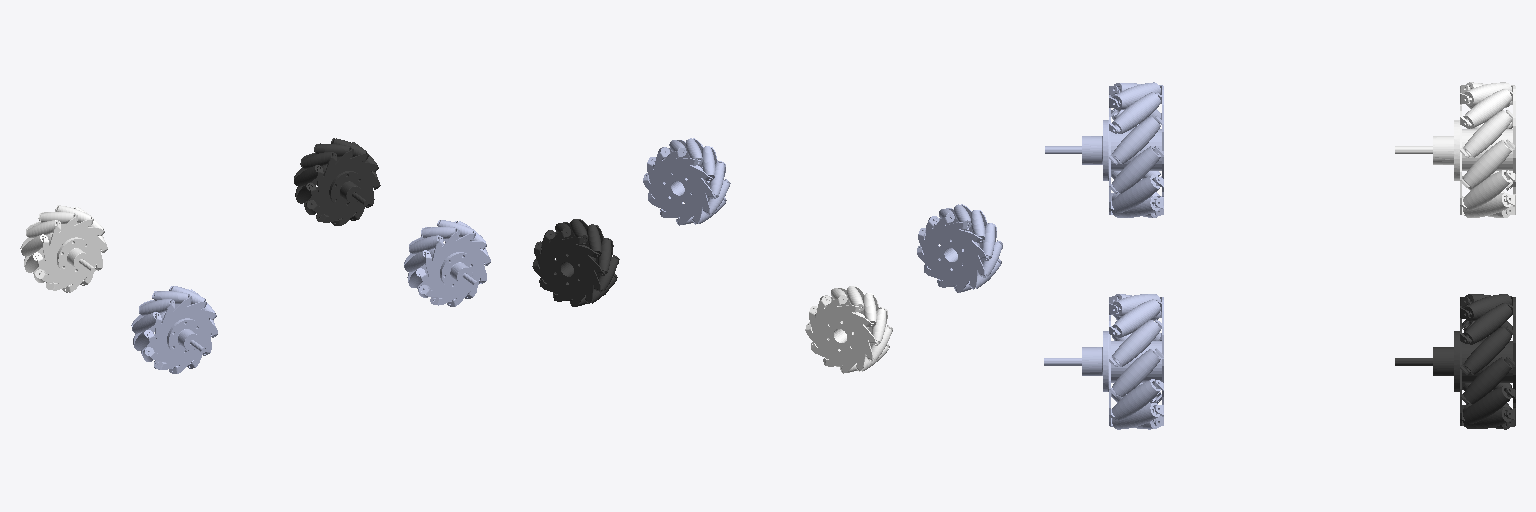
URDF robot description (navstack_pub):
<?xml version="1.0" encoding="utf-8"?>
<!-- This URDF was automatically created by SolidWorks to URDF Exporter! Originally created by [author] ([email redacted]) 
     Commit Version: 1.6.0-4-g7f85cfe  Build Version: 1.6.7995.38578
     For more information, please see http://wiki.ros.org/sw_urdf_exporter -->
<robot
  name="navstack_pub">
  <link name="base_footprint"/>
  <joint name="base_link_joint" type="fixed">
    <origin rpy="0 0 0" xyz="0 0 0.12"/>
    <parent link="base_footprint"/>
    <child link="base_link"/>
  </joint>
  
  
  
  <link
    name="base_link">
    <inertial>
      <origin
        xyz="0.0209148482469032 0.00353141324278033 -0.0152111359569568"
        rpy="0 0 0" />
      <mass
        value="4.18823858430197" />
      <inertia
        ixx="0.0163959812788391"
        ixy="2.18210912296025E-08"
        ixz="-6.53592108618589E-07"
        iyy="0.0454692904330769"
        iyz="-1.31603476826795E-07"
        izz="0.0580306179732299" />
    </inertial>
    <visual>
      <origin
        xyz="0 0 0"
        rpy="0 0 0" />
      <geometry>
        <mesh
          filename="package://navstack_pub/meshes/base_link.STL" />
      </geometry>
      <material
        name="">
        <color
          rgba="0.698039215686274 0.698039215686274 0.698039215686274 1" />
      </material>
    </visual>
    <collision>
      <origin
        xyz="0 0 0"
        rpy="0 0 0" />
      <geometry>
        <mesh
          filename="package://navstack_pub/meshes/base_link.STL" />
      </geometry>
    </collision>
  </link>
  <link
    name="bl_wheel_link">
    <inertial>
      <origin
        xyz="1.02695629777827E-15 -0.0302856529808955 -1.3235940121703E-15"
        rpy="0 0 0" />
      <mass
        value="0.270243648121361" />
      <inertia
        ixx="8.01495437608353E-05"
        ixy="-2.87447743312358E-19"
        ixz="-2.59118436935907E-19"
        iyy="0.000108364789370441"
        iyz="-4.61089444048629E-19"
        izz="8.01495437608351E-05" />
    </inertial>
    <visual>
      <origin
        xyz="0 0 0"
        rpy="0 0 0" />
      <geometry>
        <mesh
          filename="package://navstack_pub/meshes/bl_wheel_link.STL" />
      </geometry>
      <material
        name="">
        <color
          rgba="1 1 1 1" />
      </material>
    </visual>
    <collision>
      <origin
        xyz="0 0 0"
        rpy="0 0 0" />
      <geometry>
        <mesh
          filename="package://navstack_pub/meshes/bl_wheel_link.STL" />
      </geometry>
    </collision>
  </link>
  <joint
    name="bl_joint"
    type="continuous">
    <origin
      xyz="-0.20031 0.16715 -0.061704"
      rpy="0 0 0" />
    <parent
      link="base_link" />
    <child
      link="bl_wheel_link" />
    <axis
      xyz="0 1 0" />
    <limit
      effort="10"
      velocity="10" />
    <dynamics
      damping="0.1"
      friction="0.1" />
  </joint>
  <link
    name="fl_Link">
    <inertial>
      <origin
        xyz="6.31716901011714E-14 -0.0302843531608482 -6.54172896408234E-14"
        rpy="0 0 0" />
      <mass
        value="0.270243648121361" />
      <inertia
        ixx="8.01495437608282E-05"
        ixy="4.67072560291564E-18"
        ixz="-1.27262734535066E-18"
        iyy="0.000108364789370431"
        iyz="4.35014061301399E-18"
        izz="8.01495437608269E-05" />
    </inertial>
    <visual>
      <origin
        xyz="0 0 0"
        rpy="0 0 0" />
      <geometry>
        <mesh
          filename="package://navstack_pub/meshes/fl_Link.STL" />
      </geometry>
      <material
        name="">
        <color
          rgba="0.298039215686275 0.298039215686275 0.298039215686275 1" />
      </material>
    </visual>
    <collision>
      <origin
        xyz="0 0 0"
        rpy="0 0 0" />
      <geometry>
        <mesh
          filename="package://navstack_pub/meshes/fl_Link.STL" />
      </geometry>
    </collision>
  </link>
  <joint
    name="fl_wheel_joint"
    type="continuous">
    <origin
      xyz="0.2759 0.16715 -0.061704"
      rpy="0 0 0" />
    <parent
      link="base_link" />
    <child
      link="fl_Link" />
    <axis
      xyz="0 1 0" />
    <limit
      effort="10"
      velocity="10" />
    <dynamics
      damping="0.1"
      friction="0.1" />
  </joint>
  <link
    name="fr_link">
    <inertial>
      <origin
        xyz="-9.43689570931383E-16 -0.0329287351623224 -1.66967134562768E-15"
        rpy="0 0 0" />
      <mass
        value="0.295407208718009" />
      <inertia
        ixx="8.51383526485942E-05"
        ixy="1.51396614954498E-19"
        ixz="8.41226575085333E-20"
        iyy="0.000115483256500183"
        iyz="3.65970224311431E-19"
        izz="8.51383526485939E-05" />
    </inertial>
    <visual>
      <origin
        xyz="0 0 0"
        rpy="0 0 0" />
      <geometry>
        <mesh
          filename="package://navstack_pub/meshes/fr_link.STL" />
      </geometry>
      <material
        name="">
        <color
          rgba="0.792156862745098 0.819607843137255 0.933333333333333 1" />
      </material>
    </visual>
    <collision>
      <origin
        xyz="0 0 0"
        rpy="0 0 0" />
      <geometry>
        <mesh
          filename="package://navstack_pub/meshes/fr_link.STL" />
      </geometry>
    </collision>
  </link>
  <joint
    name="fr_wheel_joint"
    type="continuous">
    <origin
      xyz="0.2759 -0.16715 -0.061704"
      rpy="0 0 -3.1416" />
    <parent
      link="base_link" />
    <child
      link="fr_link" />
    <axis
      xyz="0 -1 0" />
    <limit
      effort="10"
      velocity="10" />
    <dynamics
      damping="0.1"
      friction="0.1" />
  </joint>
  <link
    name="br_link">
    <inertial>
      <origin
        xyz="-4.9960036108132E-16 -0.0302761236696991 -9.98333360424652E-16"
        rpy="0 0 0" />
      <mass
        value="0.270243648121361" />
      <inertia
        ixx="8.01495437608317E-05"
        ixy="1.8673608367527E-18"
        ixz="-2.18251885518867E-18"
        iyy="0.000108364789370434"
        iyz="-1.14231160922193E-18"
        izz="8.01495437608275E-05" />
    </inertial>
    <visual>
      <origin
        xyz="0 0 0"
        rpy="0 0 0" />
      <geometry>
        <mesh
          filename="package://navstack_pub/meshes/br_link.STL" />
      </geometry>
      <material
        name="">
        <color
          rgba="0.792156862745098 0.819607843137255 0.933333333333333 1" />
      </material>
    </visual>
    <collision>
      <origin
        xyz="0 0 0"
        rpy="0 0 0" />
      <geometry>
        <mesh
          filename="package://navstack_pub/meshes/br_link.STL" />
      </geometry>
    </collision>
  </link>
  <joint
    name="br_joint_wheel"
    type="continuous">
    <origin
      xyz="-0.20031 -0.16715 -0.061704"
      rpy="0 0 -3.1416" />
    <parent
      link="base_link" />
    <child
      link="br_link" />
    <axis
      xyz="0 -1 0" />
    <limit
      effort="10"
      velocity="10" />
    <dynamics
      damping="0.1"
      friction="0.1" />
  </joint>
  
  <link name="laser">
    <collision>
      <origin xyz="0 0 0" rpy="0 0 0"/>
      <geometry>
        <box size="0.1 0.1 0.1"/>
      </geometry>
    </collision>

    <visual>
      <origin xyz="0 0 0" rpy="0 0 3.14"/>
      <geometry>
        <mesh filename="package://navstack_pub/meshes/lds.stl" scale="0.001 0.001 0.001"/>
      </geometry>
    </visual>

     <inertial>
      <mass value="0.114" />
      <origin xyz="0 0 0" />
      <inertia ixx="0.001" ixy="0.0" ixz="0.0"
               iyy="0.001" iyz="0.0"
               izz="0.001" />
    </inertial>
  </link>
  
  <joint name="scan_joint" type="fixed">
    <axis xyz="0 0 0" />
    <origin xyz="0.290 0 0.1" rpy="0 0 0"/>
    <parent link="base_link"/>
    <child link="laser"/>
  </joint>
  
</robot>

--- What the picture shows (computed from the rendered views, not written in the file) ---
3 views of the same robot in one strip: view 1: azimuth 30°, elevation 25°; view 2: azimuth 150°, elevation 25°; view 3: azimuth 270°, elevation 25° (orthographic).
Model navstack_pub with 7 links and 6 joints (4 continuous, 2 fixed), rooted at base_footprint, posed every joint at zero.
Visible links, largest first — view 1: br_link, bl_wheel_link, fl_Link, fr_link; view 2: bl_wheel_link, fl_Link, br_link, fr_link; view 3: fl_Link, bl_wheel_link, br_link, fr_link.
Link boxes in pixels (<box>): br_link: <box>131,286,217,373</box>; bl_wheel_link: <box>20,205,107,292</box>; fl_Link: <box>294,138,380,225</box>; fr_link: <box>404,220,490,306</box>; bl_wheel_link: <box>805,286,892,373</box>; fl_Link: <box>532,219,619,306</box>; br_link: <box>917,204,1002,292</box>; fr_link: <box>643,138,730,225</box>; fl_Link: <box>1395,294,1515,429</box>; bl_wheel_link: <box>1395,82,1515,217</box>; br_link: <box>1045,82,1163,217</box>; fr_link: <box>1044,294,1163,429</box>.
Bounding box of the posed robot: 0.6055 × 0.4483 × 0.1293 m (x, y, z).
4 mesh visuals loaded from 6 distinct referenced files (4 binary STL); not drawn: 2 (reference not matched to a file when rendering).